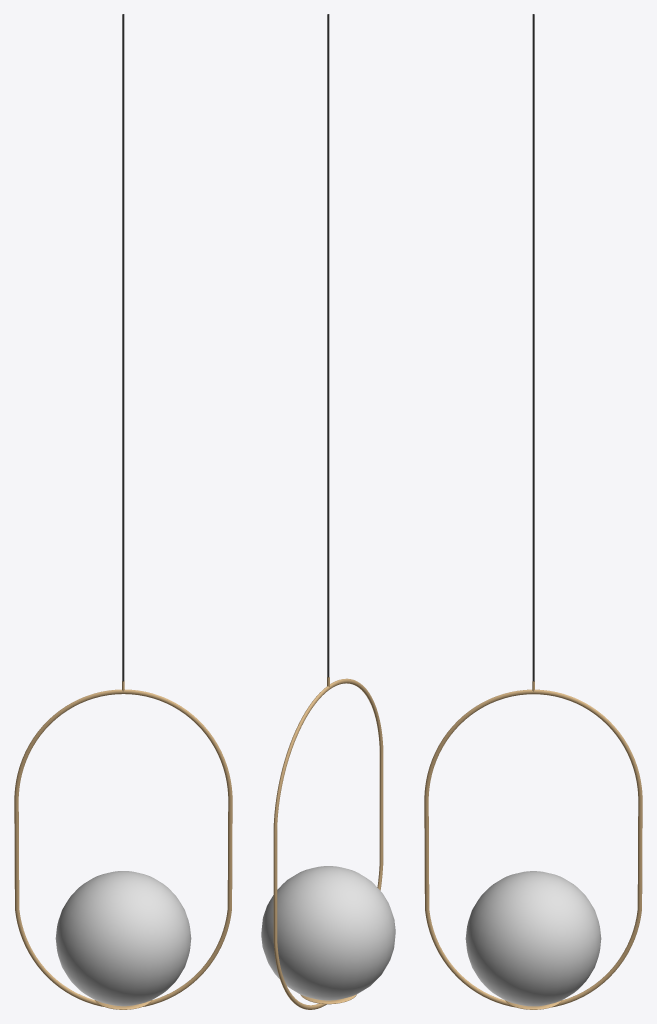
The model's file is light2.fbx.
The picture shows the model from 3 angles, left to right: view 1: azimuth 90°, elevation 25°; view 2: azimuth 150°, elevation 25°; view 3: azimuth 270°, elevation 25°; orthographic projection.
Parts seen in each view (by area): view 1: Sphere, Torus, Cylinder.001; view 2: Sphere, Torus, Cylinder.001; view 3: Sphere, Torus, Cylinder.001.
Part boxes in pixels (left/top/right/bottom): Sphere: left=55, top=871, right=191, bottom=1006; Torus: left=14, top=681, right=232, bottom=1006; Cylinder.001: left=122, top=14, right=124, bottom=681; Sphere: left=261, top=866, right=395, bottom=1000; Torus: left=273, top=677, right=383, bottom=1009; Cylinder.001: left=327, top=14, right=329, bottom=677; Sphere: left=465, top=871, right=601, bottom=1006; Torus: left=424, top=681, right=642, bottom=1007; Cylinder.001: left=532, top=14, right=534, bottom=681.
Size of the model in its own units: 140 by 1133 by 225.
